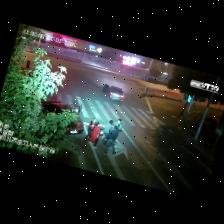person: (103, 126, 117, 155), (89, 122, 102, 148), (101, 120, 111, 146), (84, 118, 95, 140)
